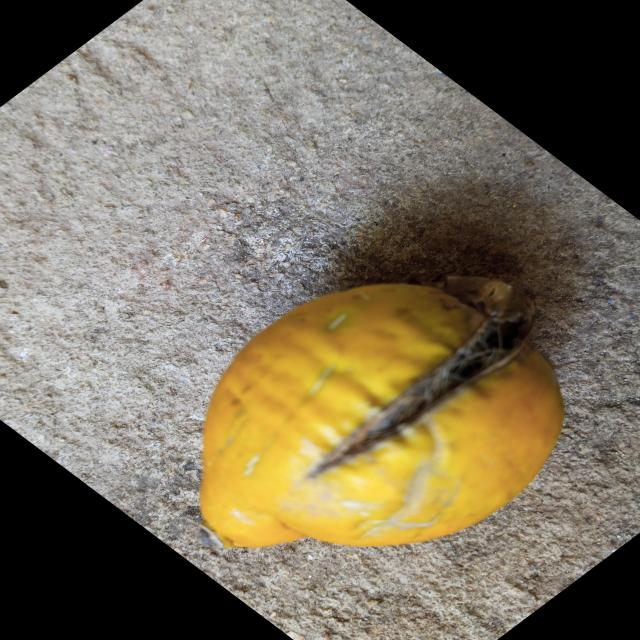damaged: (202, 280, 565, 550)
